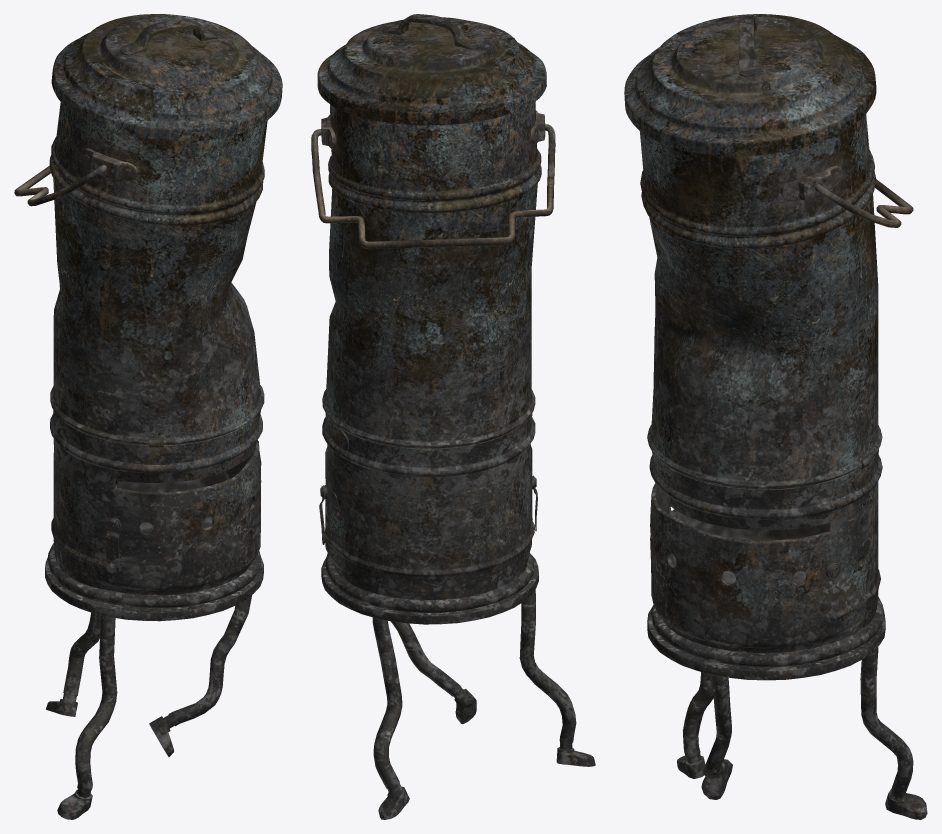
The model's file is ww2-heater-smoked.glb.
3 renders of one model, left to right at view 1: azimuth 30°, elevation 25°; view 2: azimuth 150°, elevation 25°; view 3: azimuth 270°, elevation 25°, orthographic. The views are drawn at different scales.
Visible parts, largest first — view 1: SM_WW2_HeaterDented_c1_LOD0; view 2: SM_WW2_HeaterDented_c1_LOD0; view 3: SM_WW2_HeaterDented_c1_LOD0.
Boxes of the visible parts, x1,y1,x2,y2 form: SM_WW2_HeaterDented_c1_LOD0: (14,14,282,819); SM_WW2_HeaterDented_c1_LOD0: (311,14,595,819); SM_WW2_HeaterDented_c1_LOD0: (624,14,927,819).
Size of the model in its own units: 0.534 by 1.61 by 0.5444.
Materials: 1 (1 with a texture image).
